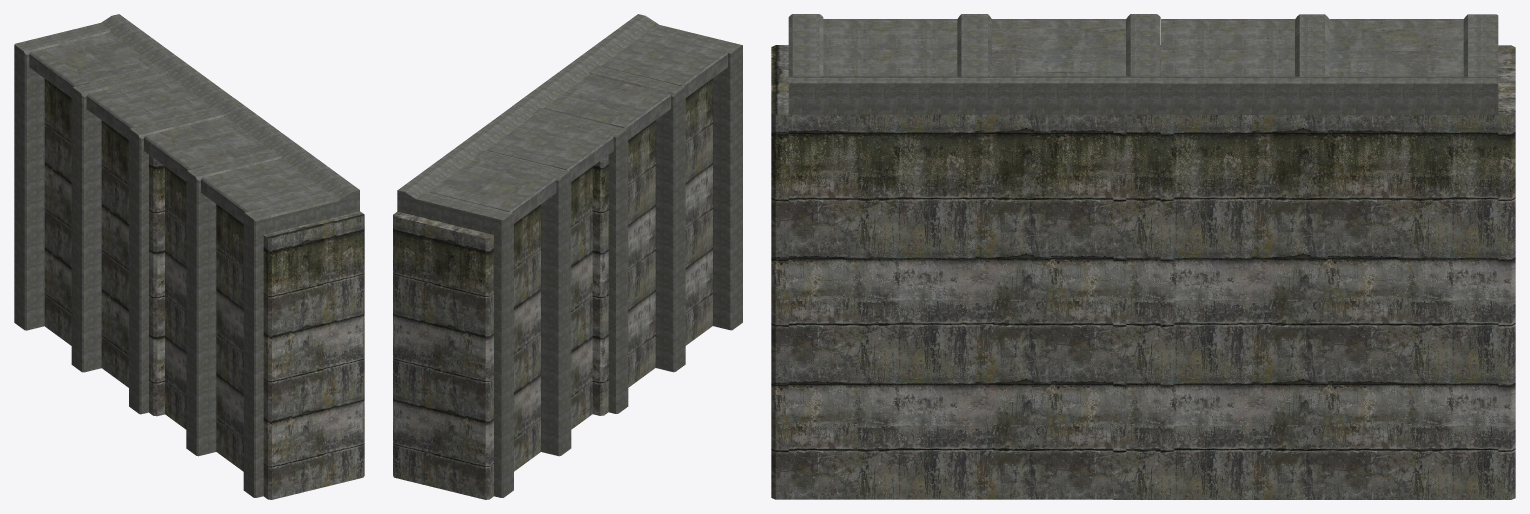
File: defense_barrier.fbx
The picture shows the model from 3 angles, left to right: view 1: azimuth 30°, elevation 25°; view 2: azimuth 150°, elevation 25°; view 3: azimuth 270°, elevation 25°; orthographic projection. The views are drawn at different scales.
Parts seen in each view (by area): view 1: Object; view 2: Object; view 3: Object.
Boxes of the visible parts, x1,y1,x2,y2 form: Object: (14, 14, 364, 499); Object: (393, 14, 742, 499); Object: (771, 14, 1515, 499).
Bounding box in the file's own units: 2075 × 5312 × 8603.
